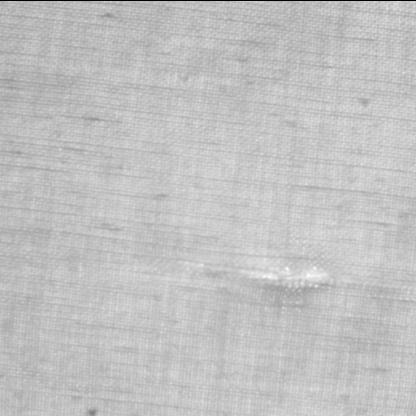thread error: (188, 254, 340, 300)
